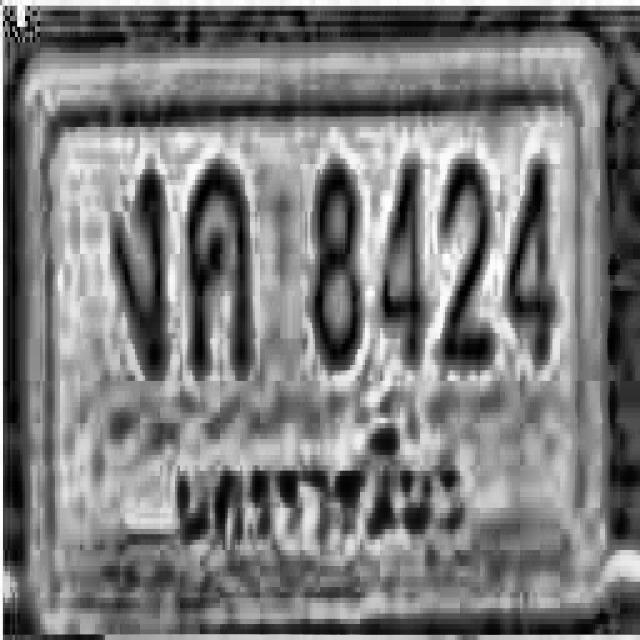license-plate: (14, 35, 617, 640)
